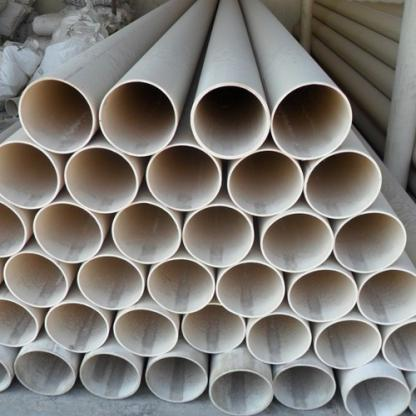pipe: (190, 82, 271, 160), (271, 83, 352, 159), (98, 80, 178, 156), (17, 78, 94, 152), (304, 150, 382, 219), (146, 144, 222, 212), (226, 150, 302, 218), (64, 146, 138, 214), (182, 204, 254, 268), (260, 212, 334, 272), (111, 201, 181, 264), (334, 212, 407, 272), (33, 202, 103, 264), (0, 140, 60, 209), (216, 261, 286, 318), (147, 258, 215, 314), (288, 268, 358, 322), (77, 255, 144, 310), (3, 252, 68, 308), (314, 319, 382, 370), (246, 313, 312, 364), (182, 303, 246, 354), (357, 268, 415, 324), (44, 302, 108, 352), (113, 308, 177, 357), (209, 368, 274, 416), (13, 350, 76, 396), (146, 356, 209, 402), (80, 353, 140, 400), (274, 365, 336, 410), (344, 375, 412, 415), (0, 298, 39, 348), (382, 322, 416, 372), (0, 202, 27, 258)
